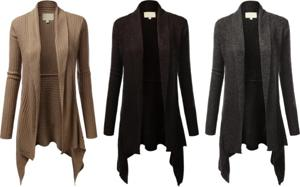S_cardigan sweater: (99, 5, 204, 183), (202, 1, 299, 187), (1, 7, 99, 177)
